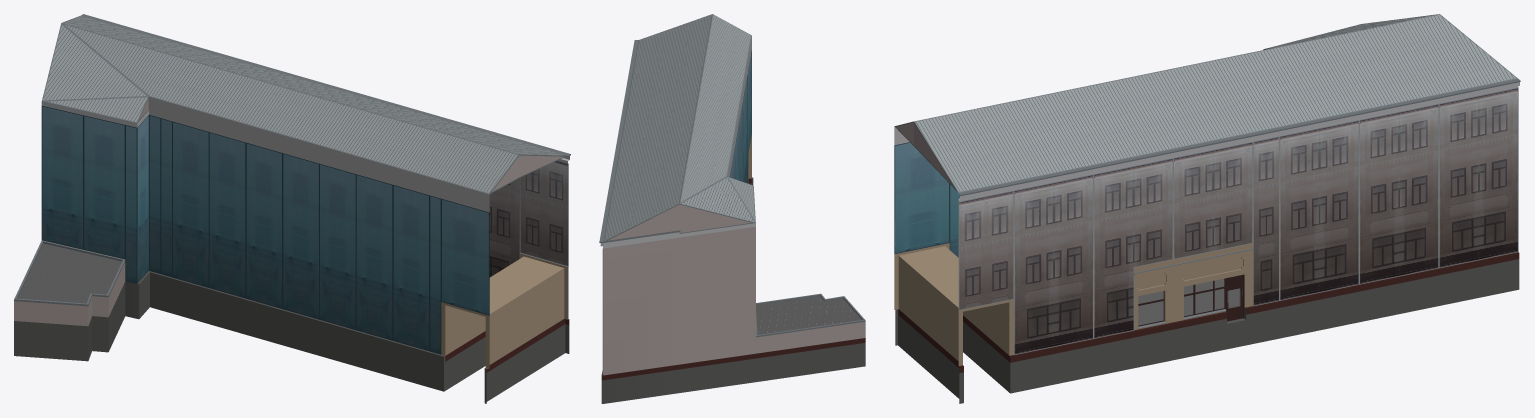
The model's file is stereetBuildingHided1.fbx.
The picture shows the model from 3 angles, left to right: view 1: azimuth 30°, elevation 25°; view 2: azimuth 150°, elevation 25°; view 3: azimuth 270°, elevation 25°; orthographic projection. The views are drawn at different scales.
Visible parts, largest first — view 1: 01080-50@110420; view 2: 01080-50@110420; view 3: 01080-50@110420.
Part boxes in pixels (x1,y1,x2,y2): 01080-50@110420: (14, 14, 570, 403); 01080-50@110420: (599, 14, 865, 403); 01080-50@110420: (894, 14, 1520, 403).
Bounding box in the file's own units: 34.93 × 18.49 × 42.72.
1 material, 1 textured.
